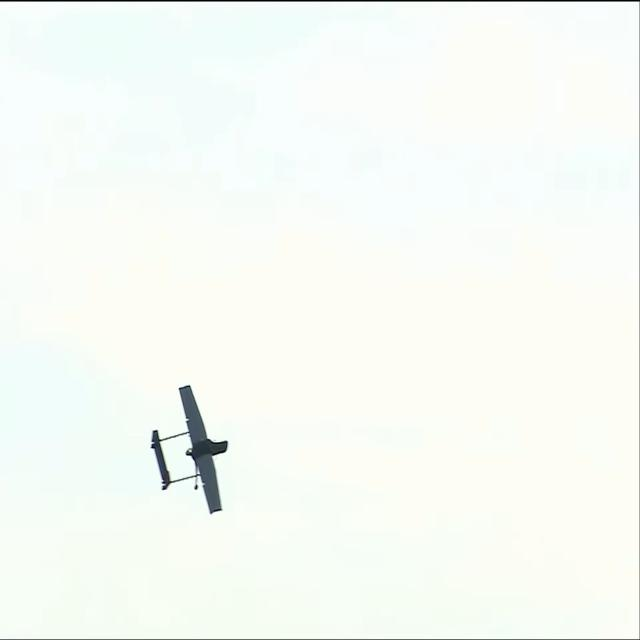iha: (182, 384, 196, 513)
